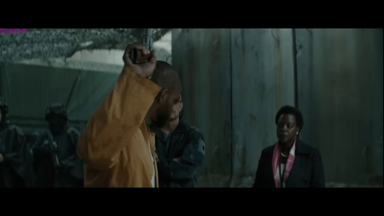firearm: (41, 130, 66, 170), (128, 29, 156, 64)
